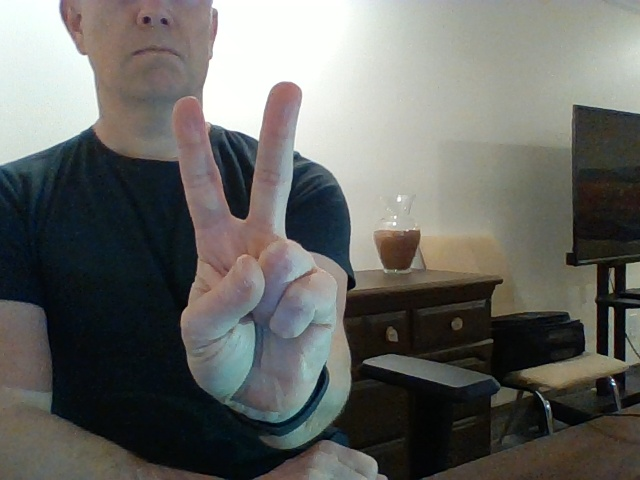Victory: (172, 82, 337, 414)
